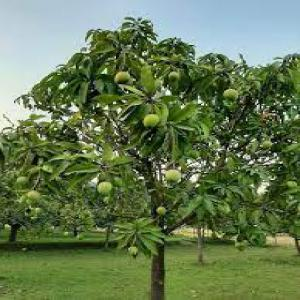Tree: (9, 13, 297, 299)
